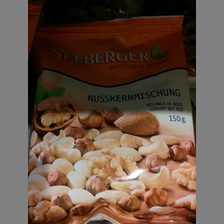nuts: (30, 15, 197, 224)
